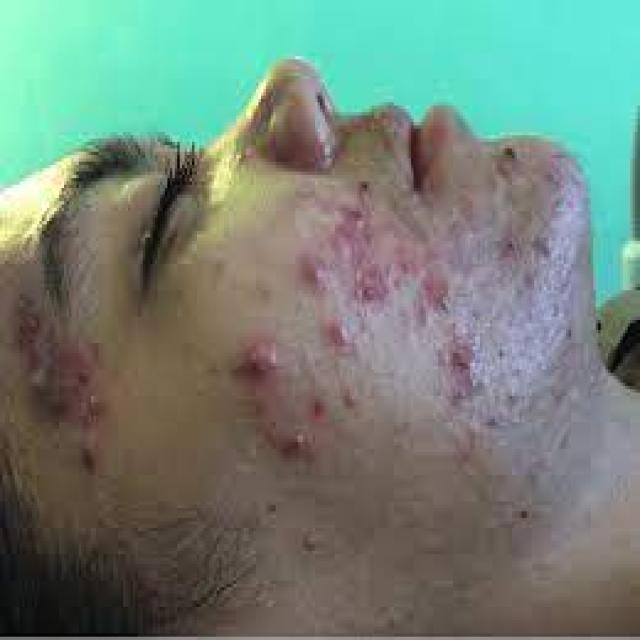Acne: (28, 338, 87, 422), (337, 202, 368, 268), (354, 262, 395, 310), (417, 268, 450, 324), (449, 338, 479, 398), (239, 339, 280, 376), (283, 428, 317, 462), (302, 252, 327, 290), (328, 321, 351, 351), (310, 394, 329, 421)
